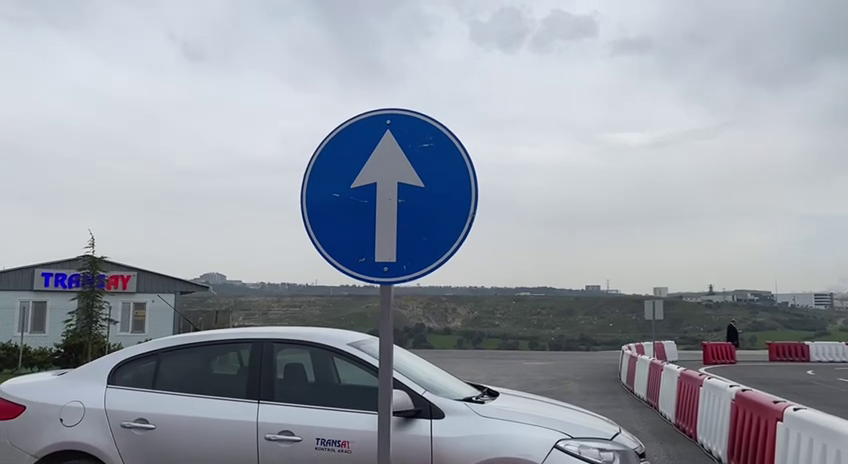forward: (296, 103, 480, 284)
